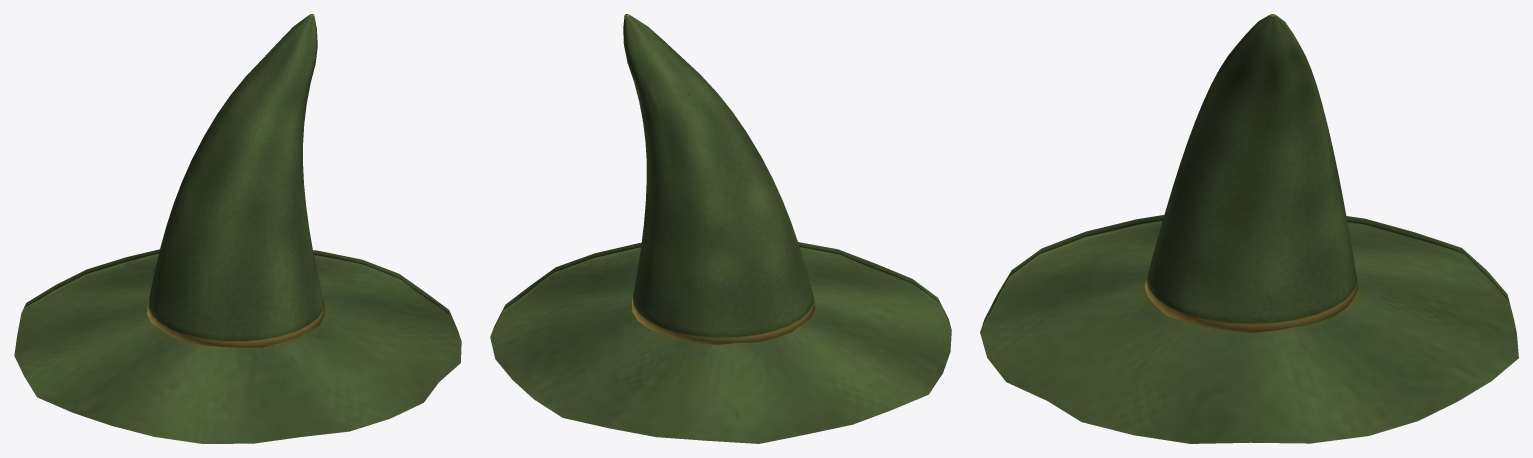
Rendered from moss_pointed_head.glb.
3 renders of one model, left to right at view 1: azimuth 30°, elevation 25°; view 2: azimuth 150°, elevation 25°; view 3: azimuth 270°, elevation 25°, orthographic. The views are drawn at different scales.
Parts seen in each view (by area): view 1: moss_pointed_head; view 2: moss_pointed_head; view 3: moss_pointed_head.
Part boxes in pixels (x1,y1,x2,y2): moss_pointed_head: (14, 14, 461, 443); moss_pointed_head: (490, 14, 951, 443); moss_pointed_head: (980, 14, 1518, 443).
Bounding box in the file's own units: 0.55 × 0.4122 × 0.5494.
Materials: 1 (1 with a texture image).
